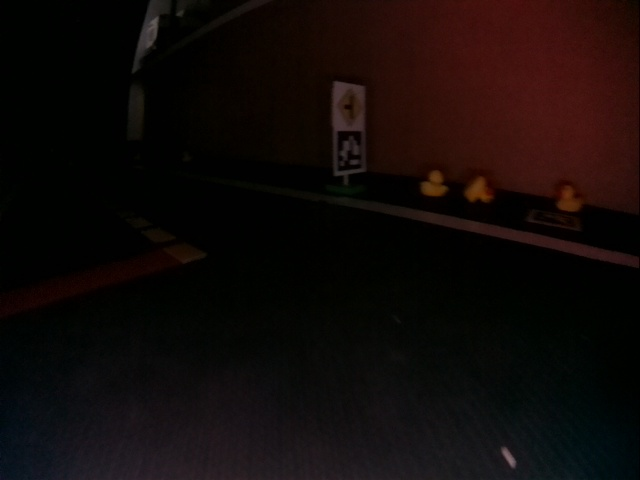Duckie: (557, 185, 584, 211), (466, 175, 491, 202), (422, 171, 444, 197)
Intersection sign: (335, 85, 363, 126)
QR code: (334, 130, 364, 170), (528, 209, 580, 232)
